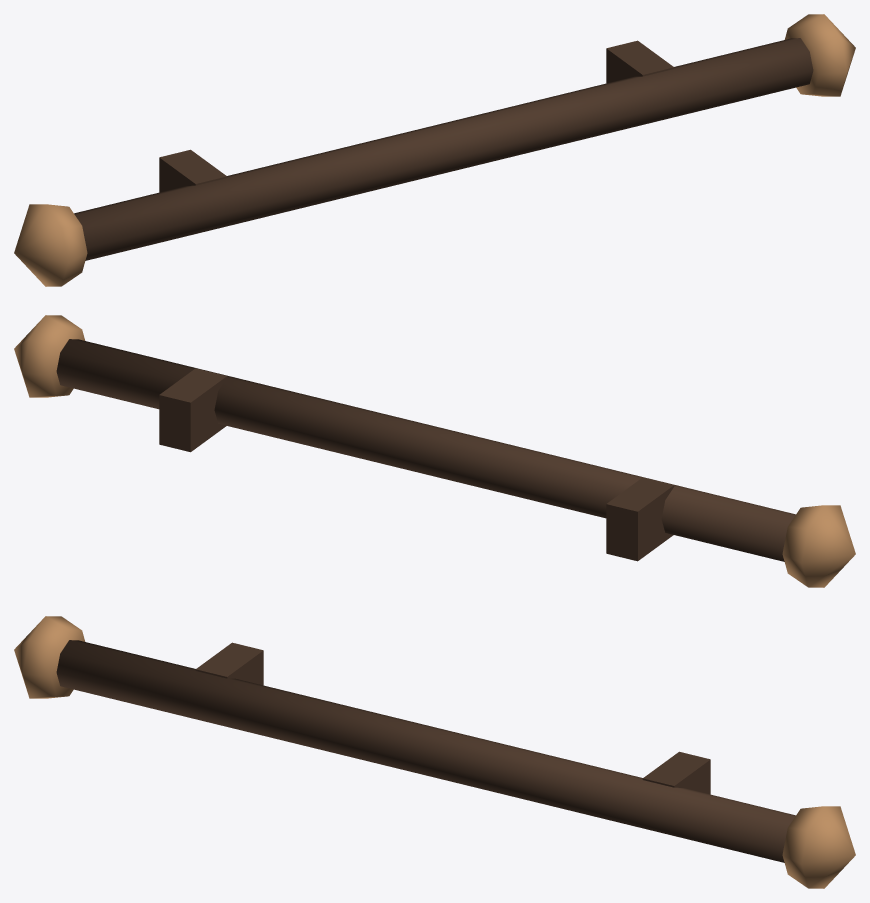
File: banner_dragon.glb
3 views of the same model, one above another, from view 1: azimuth 30°, elevation 25°; view 2: azimuth 150°, elevation 25°; view 3: azimuth 330°, elevation 25° (orthographic).
Visible parts, largest first — view 1: banner_dragon; view 2: banner_dragon; view 3: banner_dragon.
Boxes of the visible parts, left/top/right/bottom form: banner_dragon: left=14, top=14, right=855, bottom=286; banner_dragon: left=14, top=315, right=855, bottom=587; banner_dragon: left=14, top=616, right=855, bottom=888.
Size of the model in its own units: 0.533 by 0.05 by 0.065.
